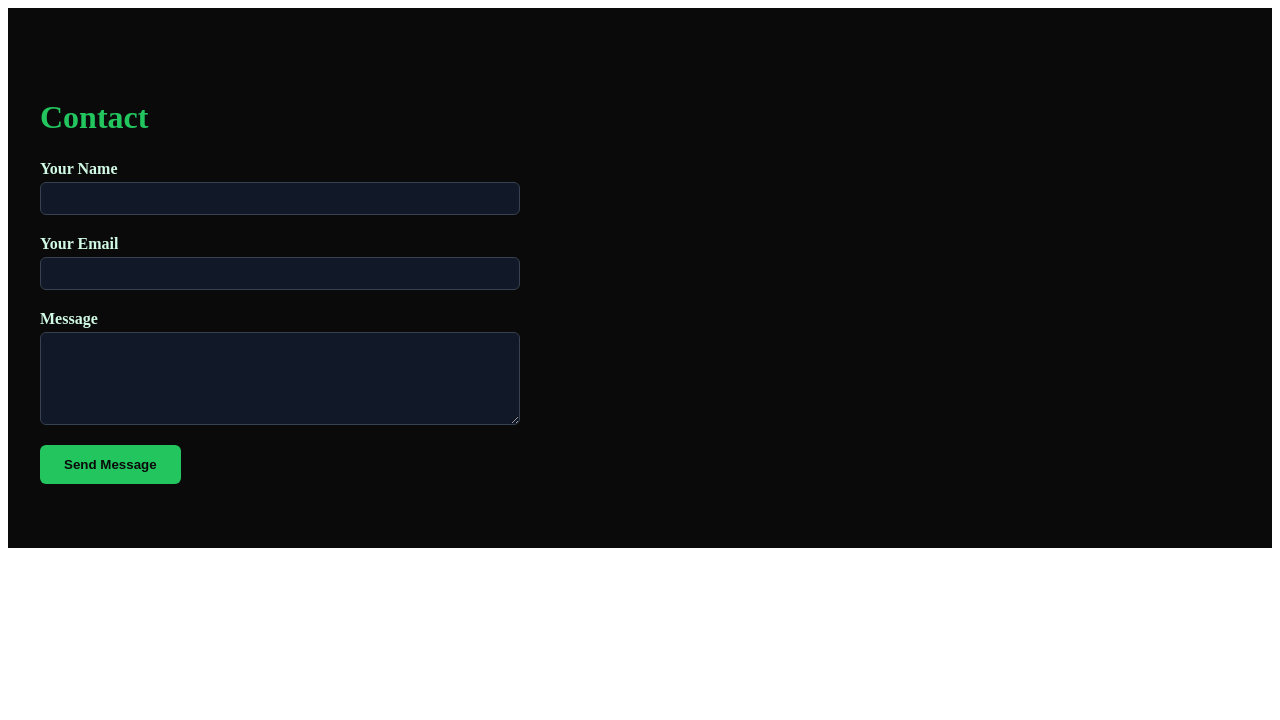
Test: ContactSection › shows validation error when message is empty
In the field labelled "Your Name": x=280, y=198 [40,182,520,214], type "Izrael"
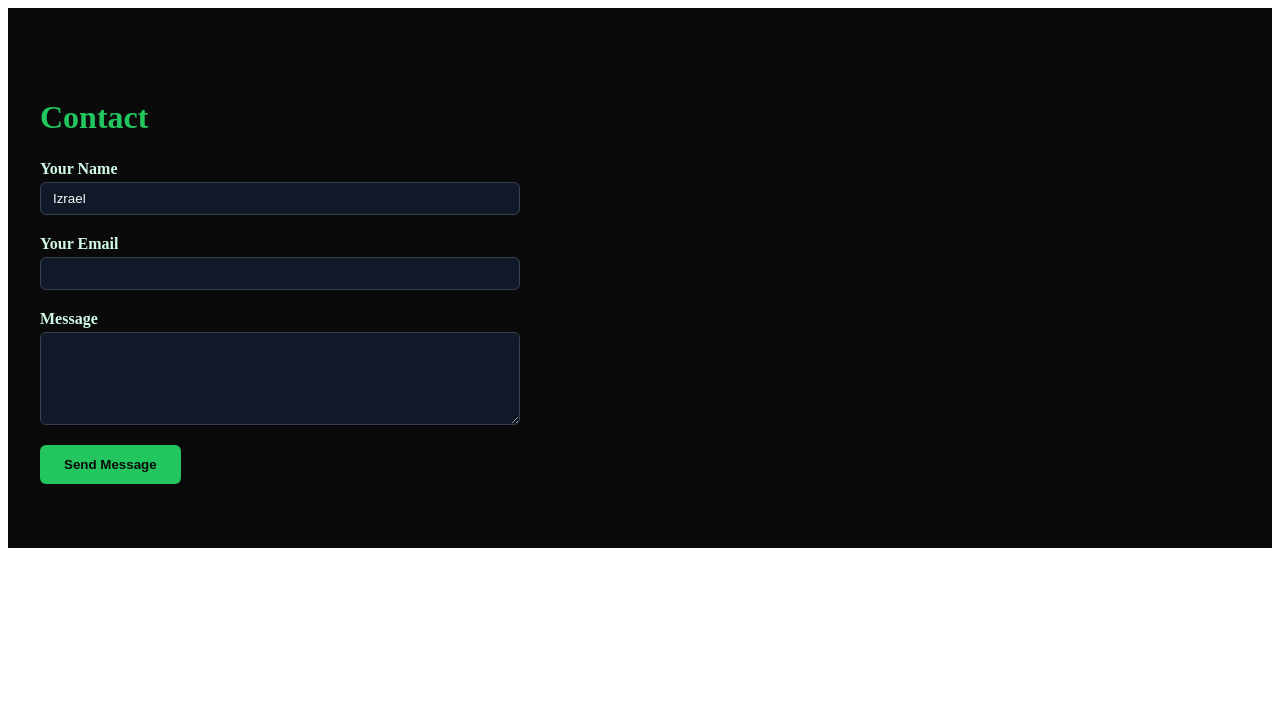
In the field labelled "Your Email": x=280, y=273 [40,256,520,290], type "test@example.com"
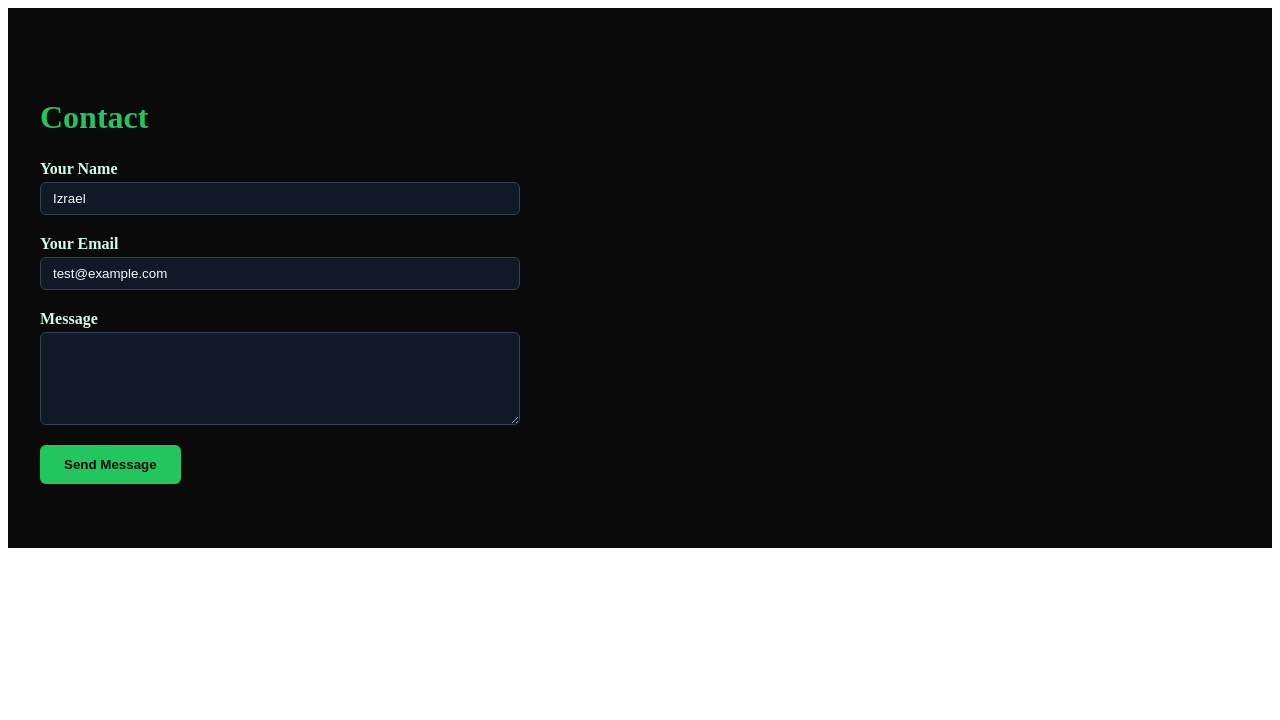
Click the button "Send Message": x=110, y=464 [40,444,181,484]
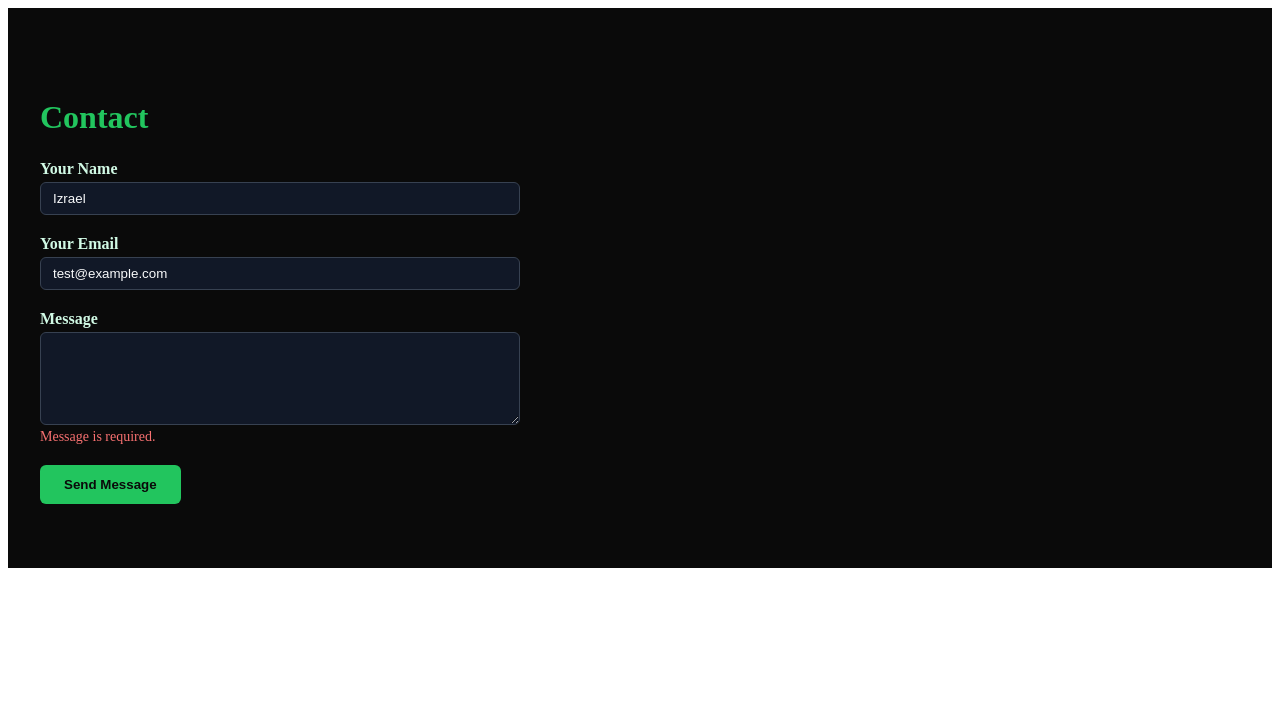
Result: the text "Message is required." is shown at [40,428,156,444]
